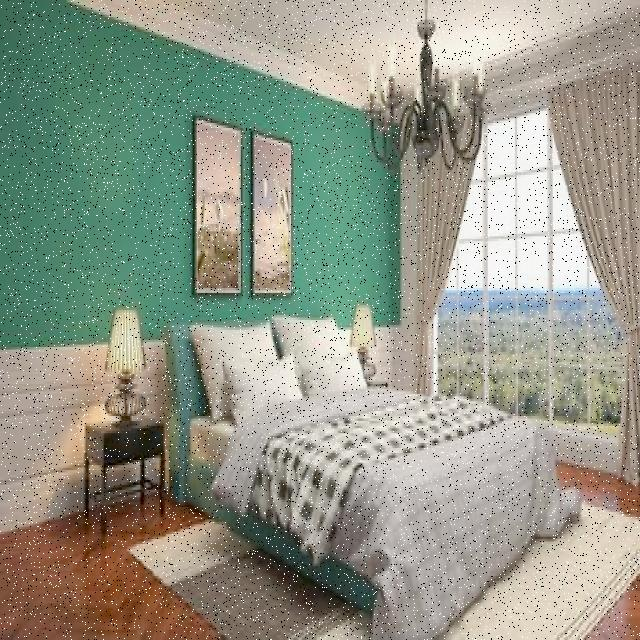bed: (162, 297, 564, 573)
